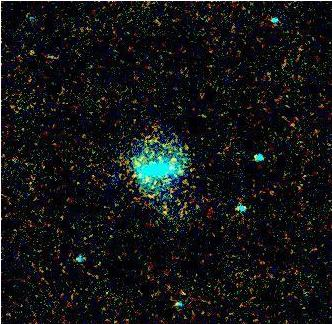star: (158, 142, 188, 172)
